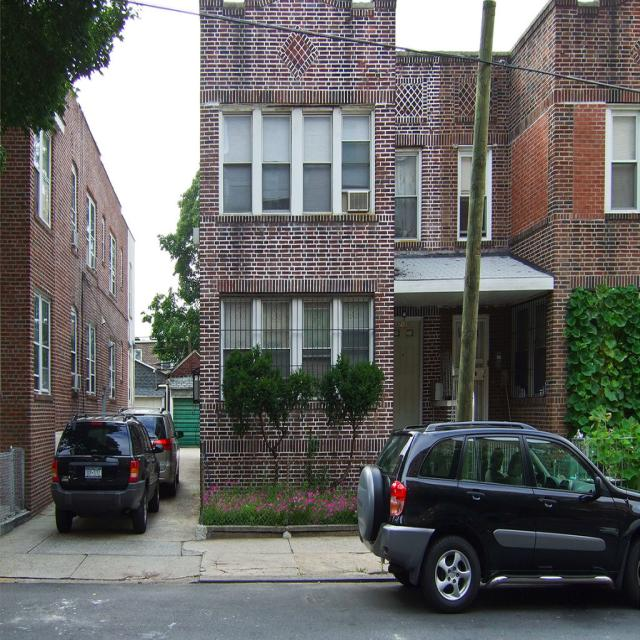car: (50, 411, 163, 533)
